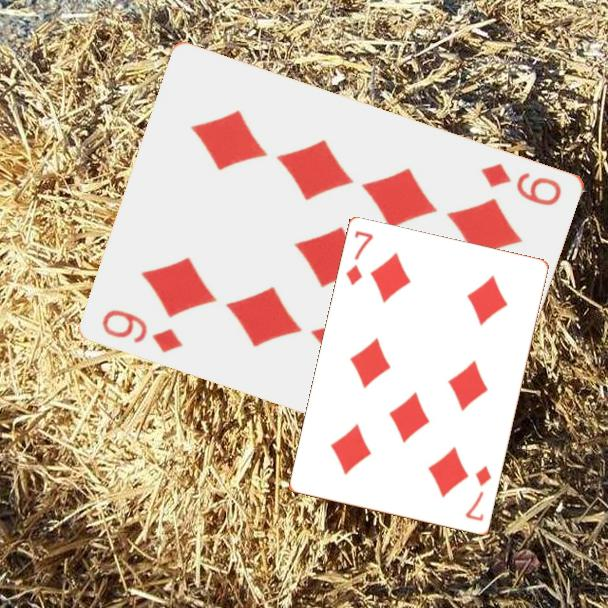d07: (462, 463, 495, 524), (343, 228, 376, 289)
d09: (478, 159, 565, 209), (99, 305, 186, 355)
